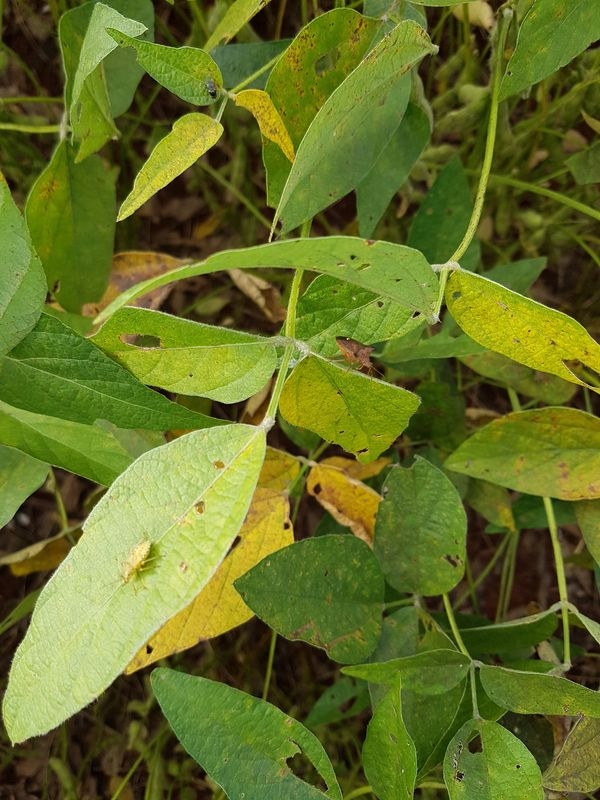Euschistus_heros_adulto: (320, 330, 387, 386)
Euschistus_heros_ninfa: (100, 536, 168, 593)
